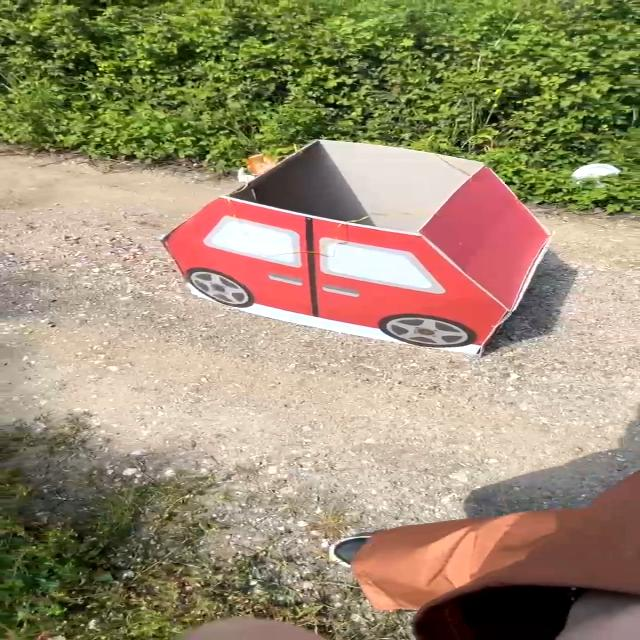red_car: (140, 106, 569, 380)
